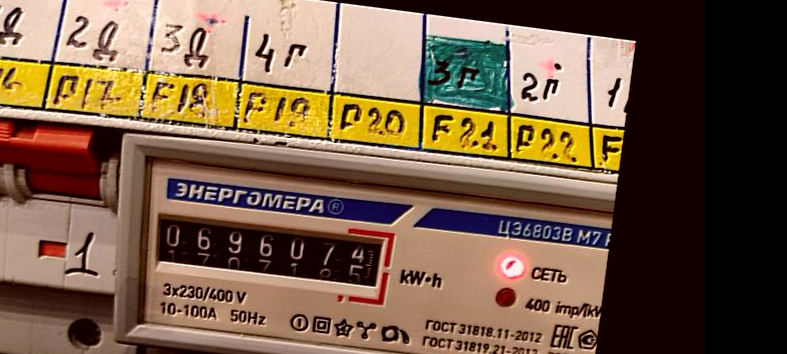0: (163, 222, 184, 249), (288, 235, 307, 263)
4: (350, 242, 367, 264)
5: (347, 264, 364, 284)
6: (193, 225, 215, 252), (257, 231, 276, 260)
7: (318, 240, 338, 268)
9: (225, 229, 245, 257)
screen: (145, 200, 398, 308)
